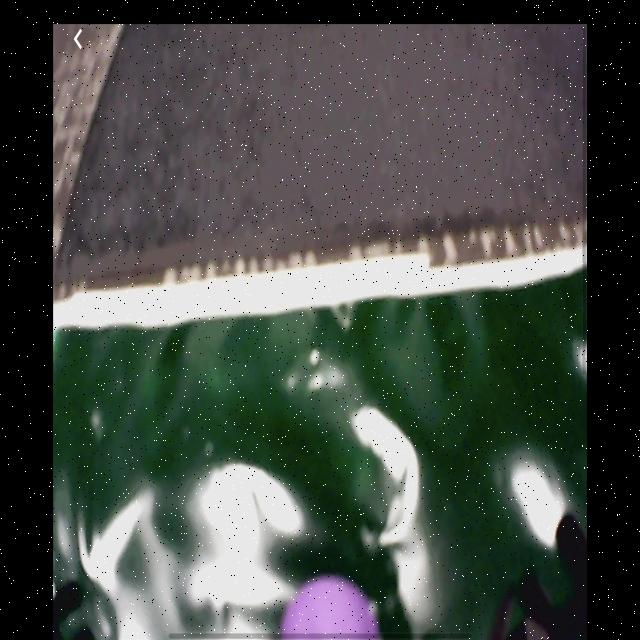ball: (282, 575, 379, 640)
